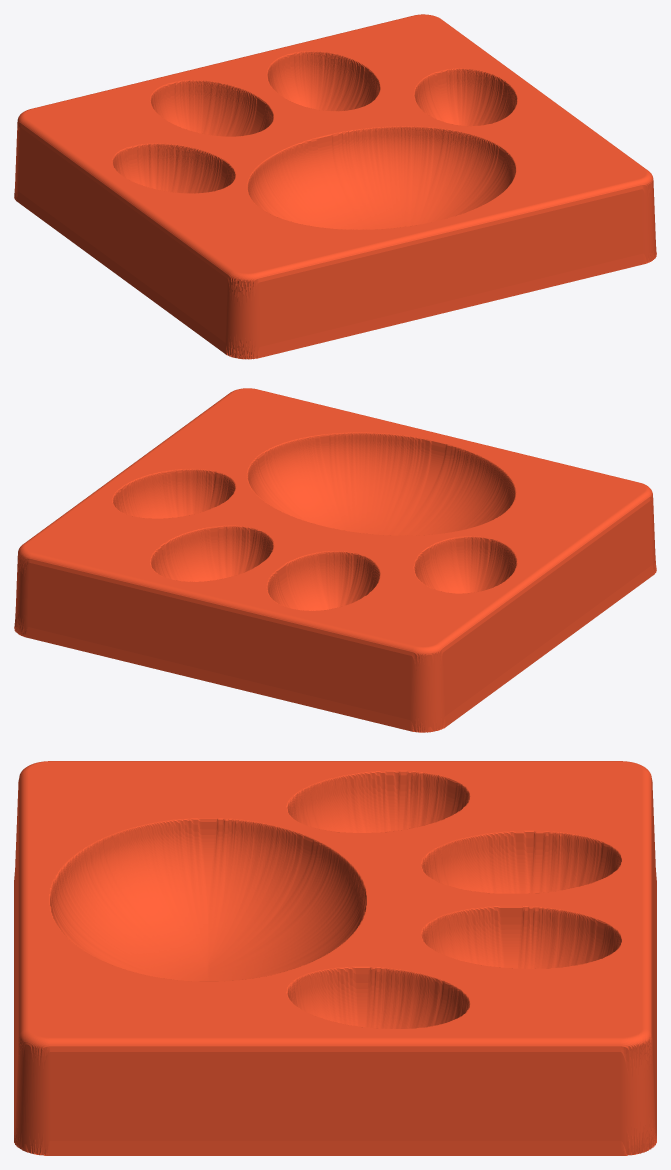
The model's file is mold.glb.
The picture shows the model from 3 angles, top to bottom: view 1: azimuth 30°, elevation 25°; view 2: azimuth 150°, elevation 25°; view 3: azimuth 270°, elevation 25°; orthographic projection. The views are drawn at different scales.
Parts seen in each view (by area): view 1: geometry_0; view 2: geometry_0; view 3: geometry_0.
Part boxes in pixels (box(x1,y1,x2,y2)): geometry_0: box(14, 14, 656, 359); geometry_0: box(14, 388, 656, 732); geometry_0: box(14, 761, 656, 1155).
Size of the model in its own units: 0.1709 by 0.031 by 0.1613.
